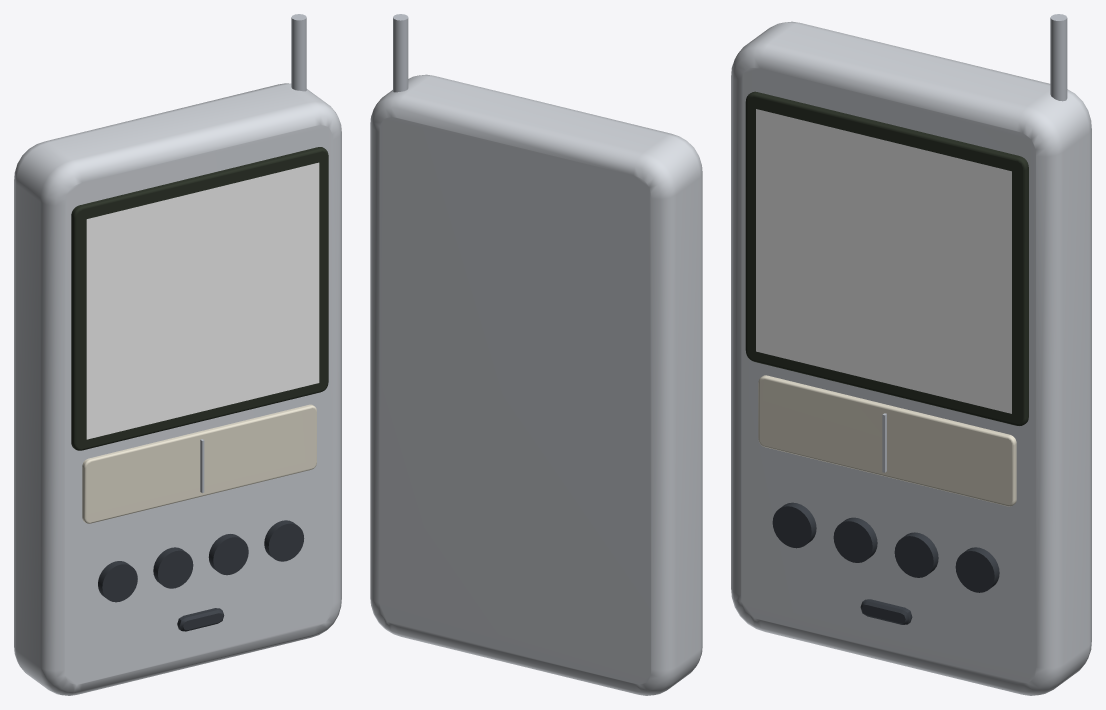
The model's file is pda.glb.
The picture shows the model from 3 angles, left to right: view 1: azimuth 30°, elevation 25°; view 2: azimuth 150°, elevation 25°; view 3: azimuth 330°, elevation 25°; orthographic projection. The views are drawn at different scales.
Parts seen in each view (by area): view 1: Body, Screen, Pad, Bezel, Key, Deck; view 2: Body, Deck; view 3: Body, Screen, Pad, Bezel, Key, Deck.
Boxes of the visible parts, box(x1,y1,x2,y2) form: Body: box(14, 83, 341, 695); Screen: box(86, 162, 319, 439); Pad: box(82, 404, 316, 523); Bezel: box(71, 147, 328, 450); Key: box(98, 520, 304, 631); Deck: box(200, 14, 306, 492); Body: box(370, 74, 702, 695); Deck: box(393, 14, 408, 92); Body: box(731, 21, 1091, 695); Screen: box(756, 109, 1011, 413); Pad: box(758, 375, 1016, 506); Bezel: box(745, 91, 1028, 425); Key: box(772, 502, 999, 624); Deck: box(882, 14, 1067, 472).
Size of the model in its own units: 0.27 by 0.52 by 0.072.
